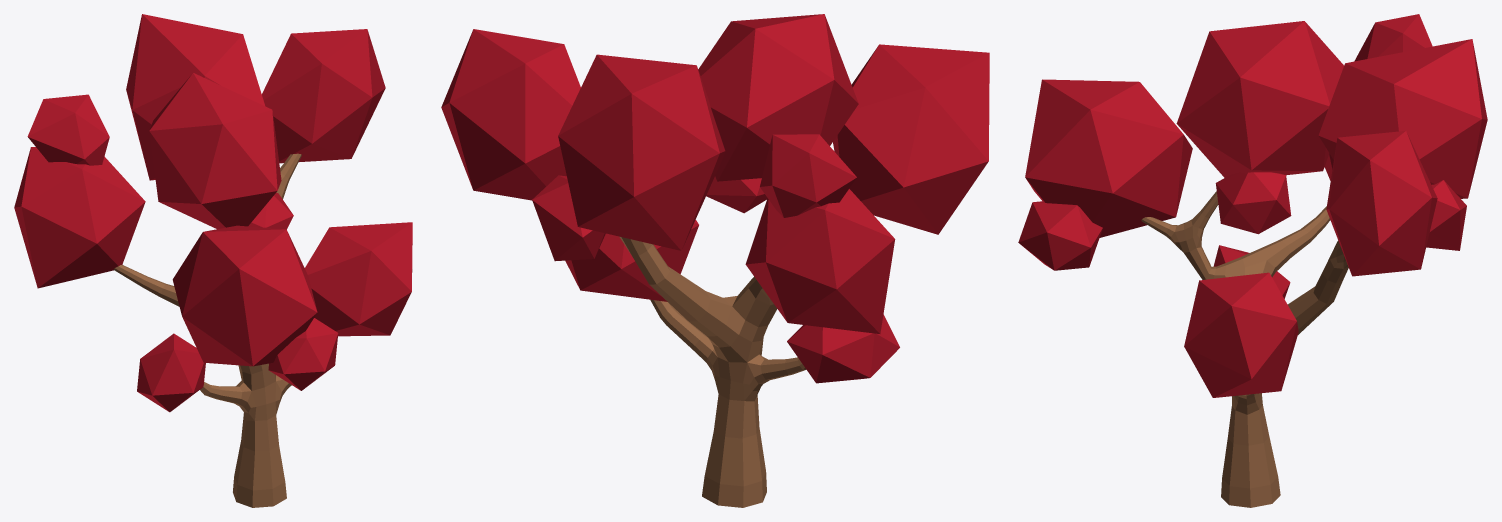
File: tree-dead-complete-2-006.glb
3 views of the same model, side by side, from view 1: azimuth 30°, elevation 25°; view 2: azimuth 150°, elevation 25°; view 3: azimuth 270°, elevation 25° (orthographic). The views are drawn at different scales.
Parts seen in each view (by area): view 1: TREE 2.007_509, TREE 2.006_510; view 2: TREE 2.007_509, TREE 2.006_510; view 3: TREE 2.007_509, TREE 2.006_510.
Boxes of the visible parts, left/top/right/bottom form: TREE 2.007_509: left=14, top=14, right=412, bottom=412; TREE 2.006_510: left=114, top=153, right=301, bottom=507; TREE 2.007_509: left=441, top=14, right=989, bottom=383; TREE 2.006_510: left=619, top=236, right=806, bottom=507; TREE 2.007_509: left=1018, top=14, right=1487, bottom=397; TREE 2.006_510: left=1141, top=191, right=1348, bottom=507.
Bounding box in the file's own units: 1.39 × 1.49 × 1.39.
